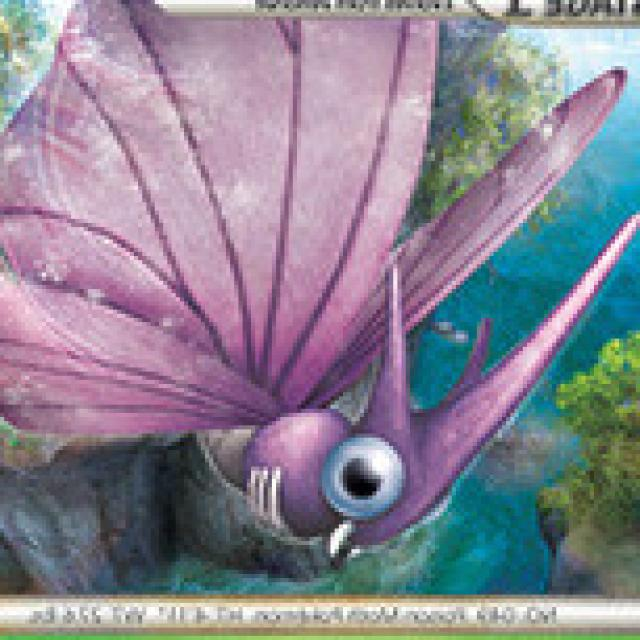Venomoth: (64, 58, 518, 546)
